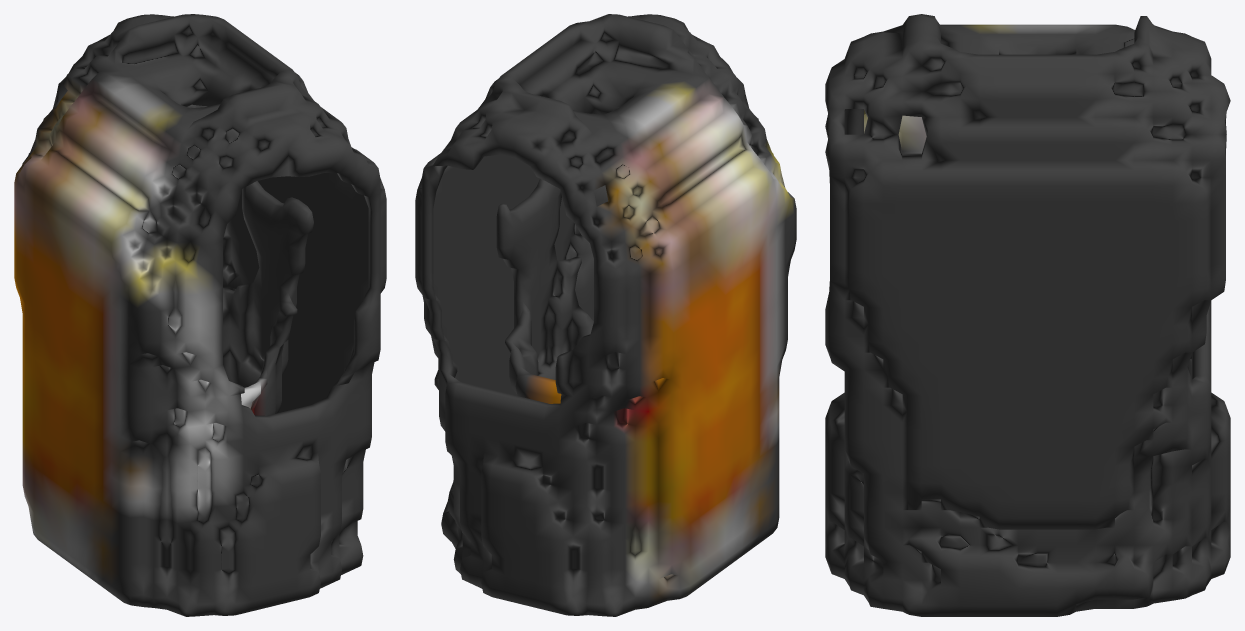
3 views of the same model, side by side, from view 1: azimuth 30°, elevation 25°; view 2: azimuth 150°, elevation 25°; view 3: azimuth 270°, elevation 25° (orthographic). The views are drawn at different scales.
Size of the model in its own units: 0.8 by 1.55 by 1.05.
